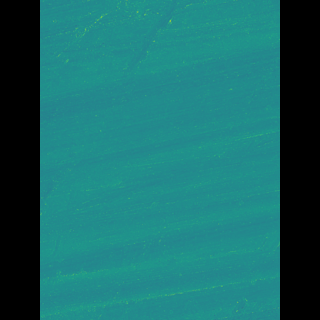Loch: (75, 0, 176, 283)
